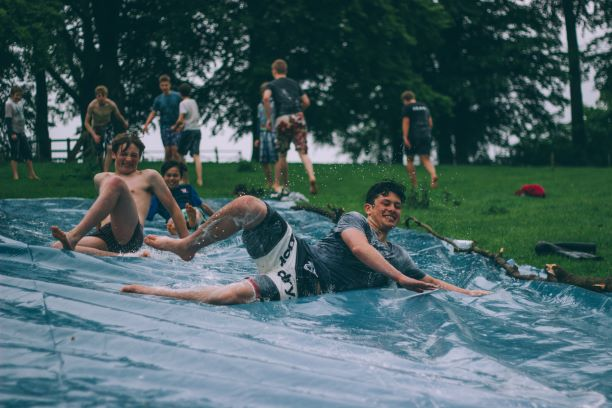human: (122, 178, 494, 310), (52, 129, 187, 261), (254, 57, 324, 193), (396, 88, 444, 190), (80, 82, 126, 188), (2, 83, 48, 183), (154, 157, 211, 234), (176, 78, 210, 187), (150, 73, 182, 179)
